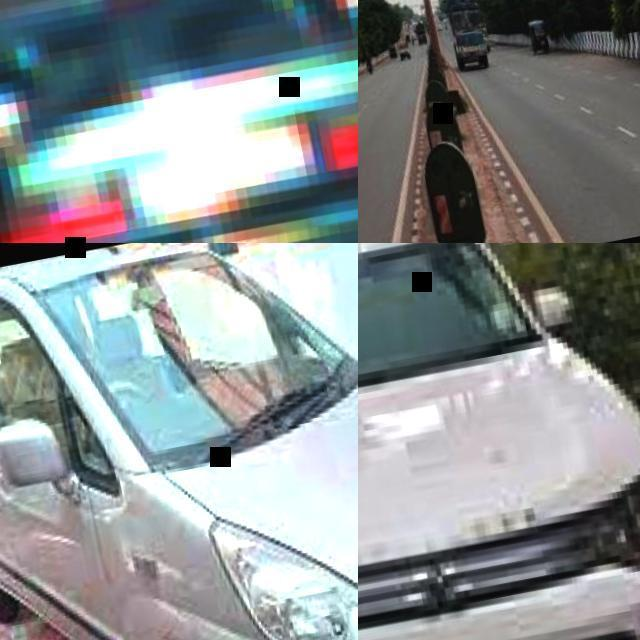car: (449, 0, 488, 69)
